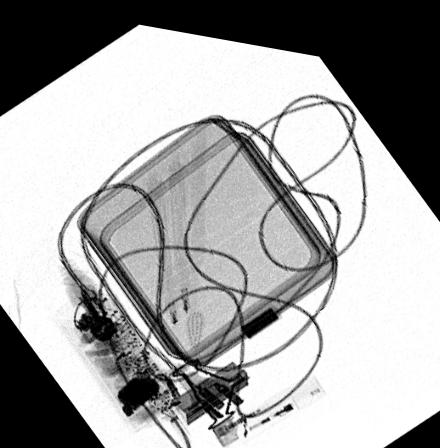Lighter: (211, 365, 328, 442)
